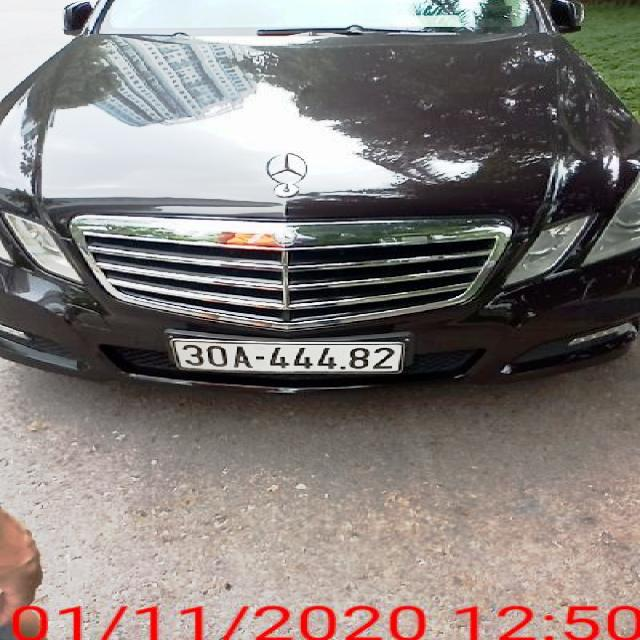license_plate: (169, 339, 406, 373)
